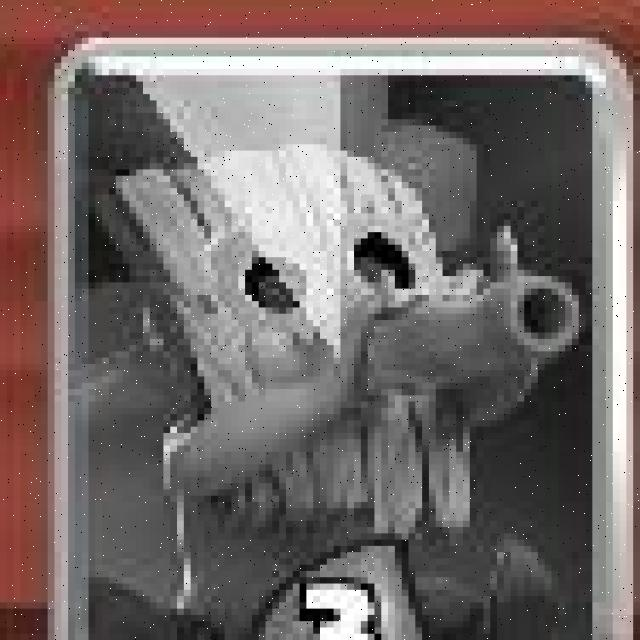Dart_Goblin: (49, 33, 635, 636)
